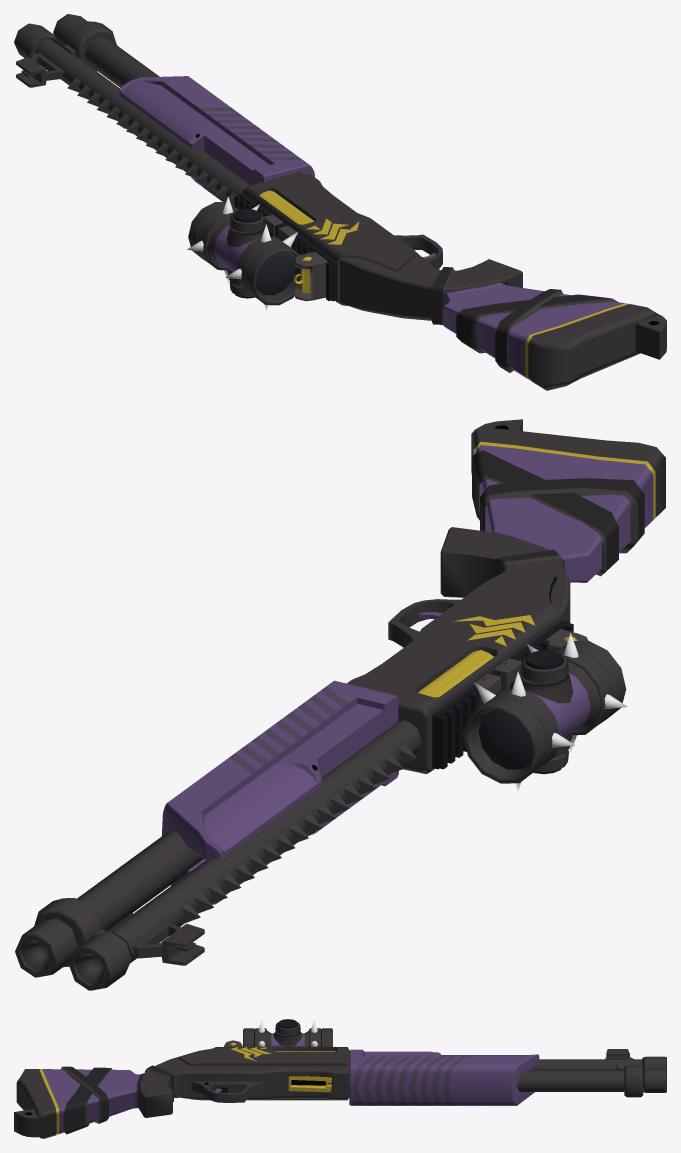
The model's file is haruka.glb.
3 views of the same model, one above another, from view 1: azimuth 30°, elevation 25°; view 2: azimuth 150°, elevation 25°; view 3: azimuth 270°, elevation 25° (orthographic). The views are drawn at different scales.
Visible parts, largest first — view 1: Haruka_Original_Weapon; view 2: Haruka_Original_Weapon; view 3: Haruka_Original_Weapon.
Part boxes in pixels (x1,y1,x2,y2): Haruka_Original_Weapon: (14,14,666,390); Haruka_Original_Weapon: (15,419,665,990); Haruka_Original_Weapon: (14,1019,666,1138).
Size of the model in its own units: 0.2021 by 0.0614 by 0.603.
1 material, 1 textured.
